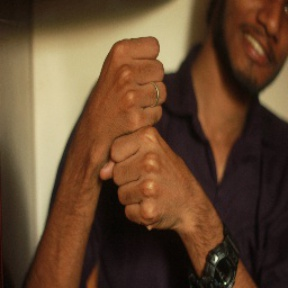G: (87, 34, 186, 232)
